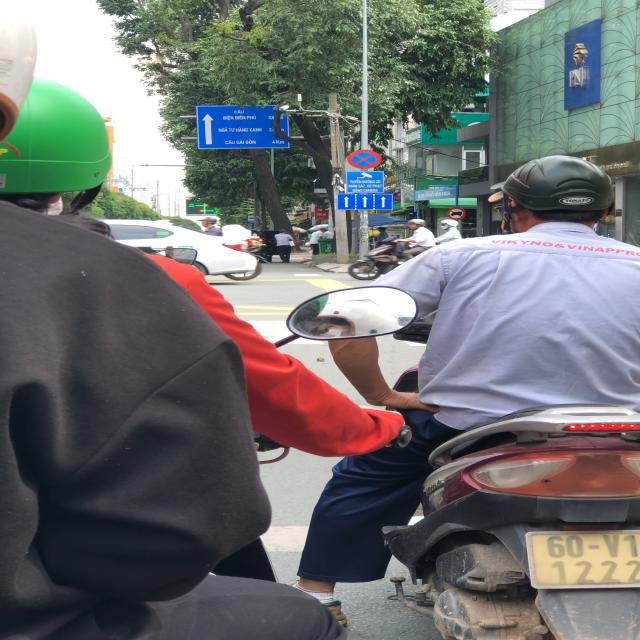Bien bao cam dung xe va do xe: (343, 148, 381, 168)
